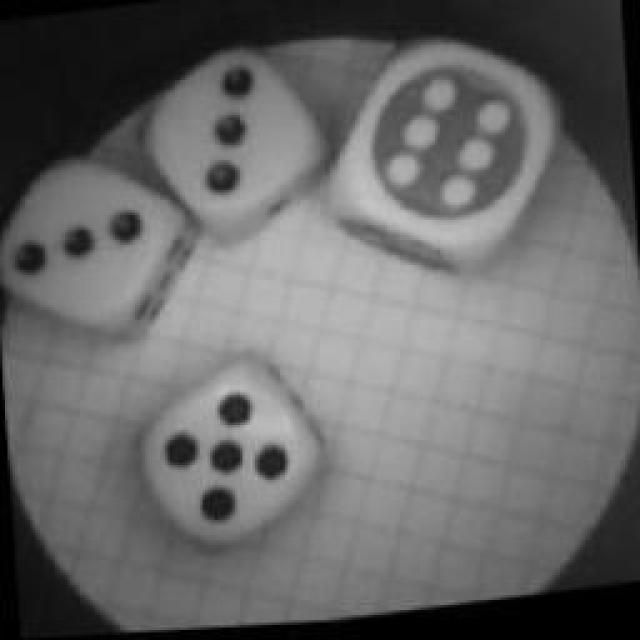dice_3: (132, 34, 348, 248), (0, 144, 190, 348)
dice_5: (134, 349, 338, 569)
dice_6: (325, 19, 570, 291)
